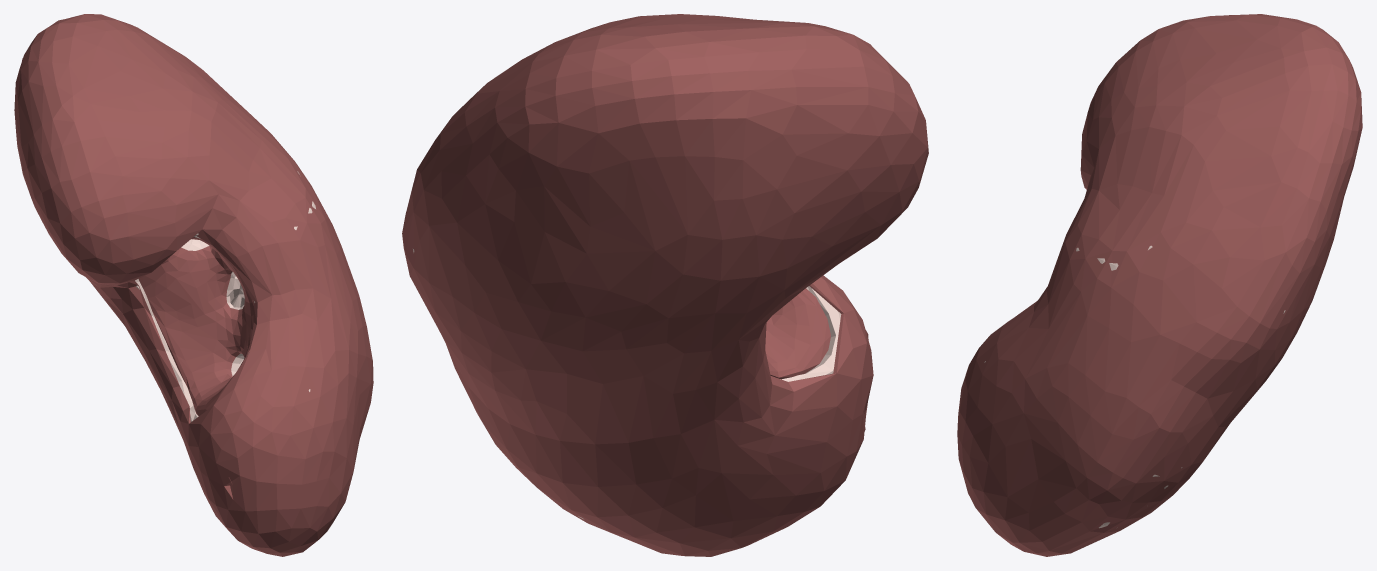
Rendered from VH_M_Kidney_L_0.2.glb.
The picture shows the model from 3 angles, left to right: view 1: azimuth 30°, elevation 25°; view 2: azimuth 150°, elevation 25°; view 3: azimuth 270°, elevation 25°; orthographic projection. The views are drawn at different scales.
Visible parts, largest first — view 1: VH_M_kidney_capsule_L, VH_M_hilum_of_kidney_L, VH_M_renal_column_L, VH_M_outer_cortex_of_kidney_L; view 2: VH_M_kidney_capsule_L, VH_M_hilum_of_kidney_L, VH_M_outer_cortex_of_kidney_L; view 3: VH_M_kidney_capsule_L.
Boxes of the visible parts, <box> form: VH_M_kidney_capsule_L: <box>14,14,373,556</box>; VH_M_hilum_of_kidney_L: <box>138,237,253,415</box>; VH_M_renal_column_L: <box>181,239,244,376</box>; VH_M_outer_cortex_of_kidney_L: <box>135,171,315,421</box>; VH_M_kidney_capsule_L: <box>402,14,928,556</box>; VH_M_hilum_of_kidney_L: <box>765,288,830,379</box>; VH_M_outer_cortex_of_kidney_L: <box>413,249,841,519</box>; VH_M_kidney_capsule_L: <box>957,14,1362,556</box>.
Size of the model in its own units: 0.0759 by 0.1068 by 0.0824.
